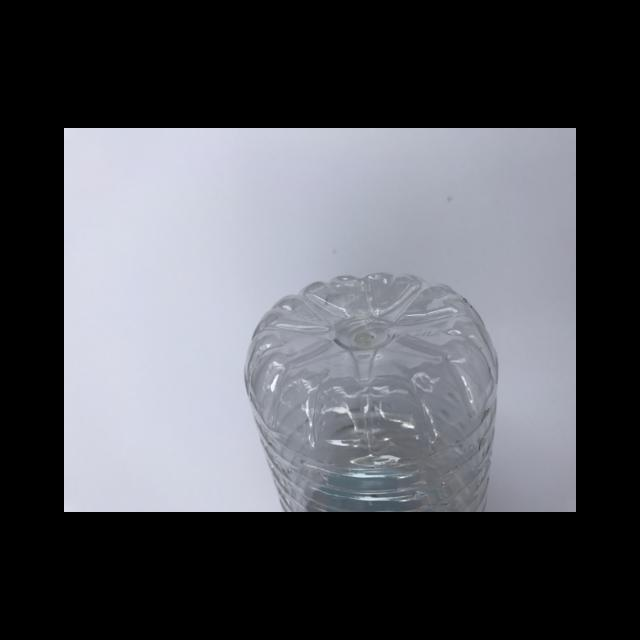plastic: (243, 270, 497, 511)
